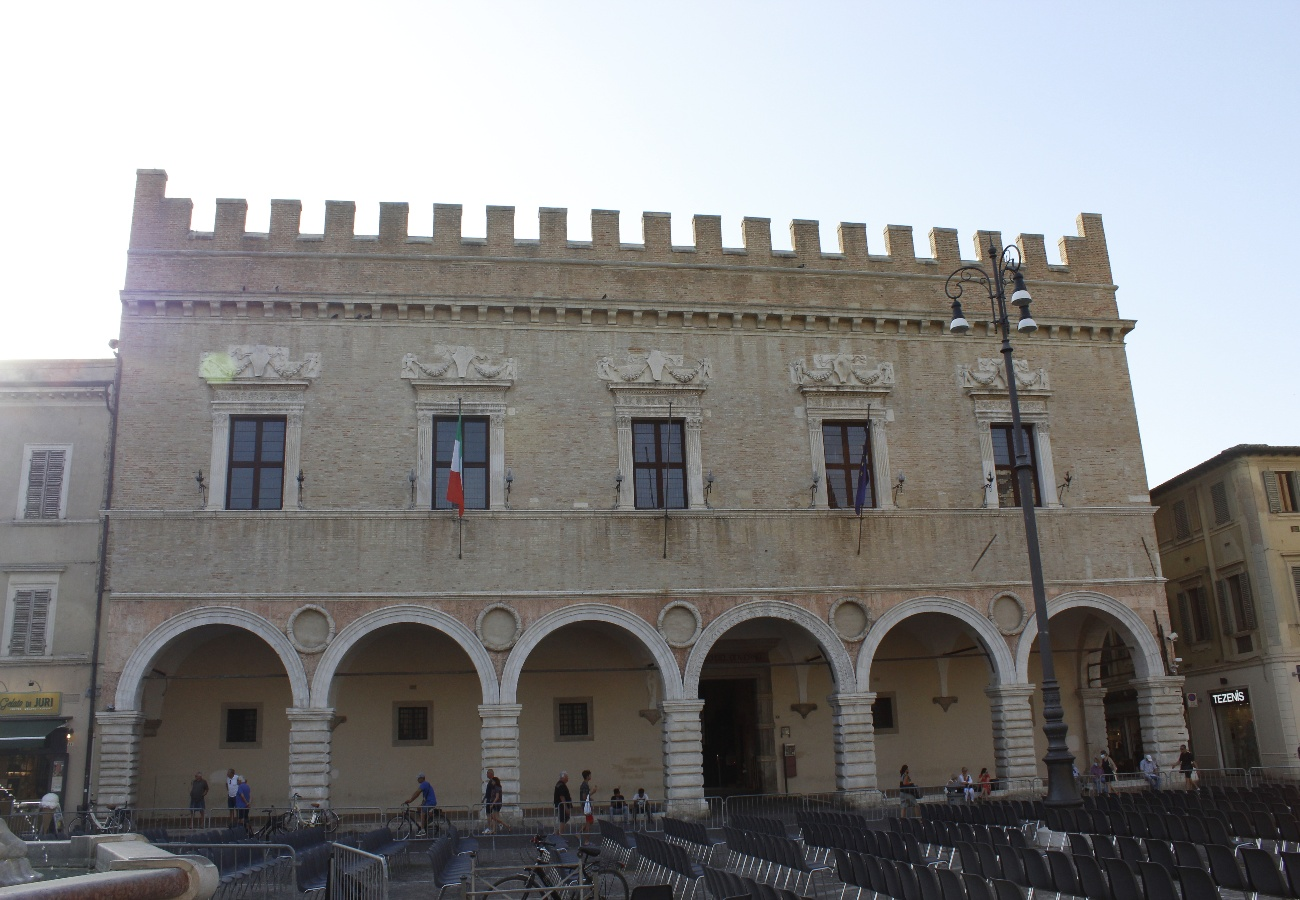Palazzo Ducale: (91, 165, 1199, 819)
